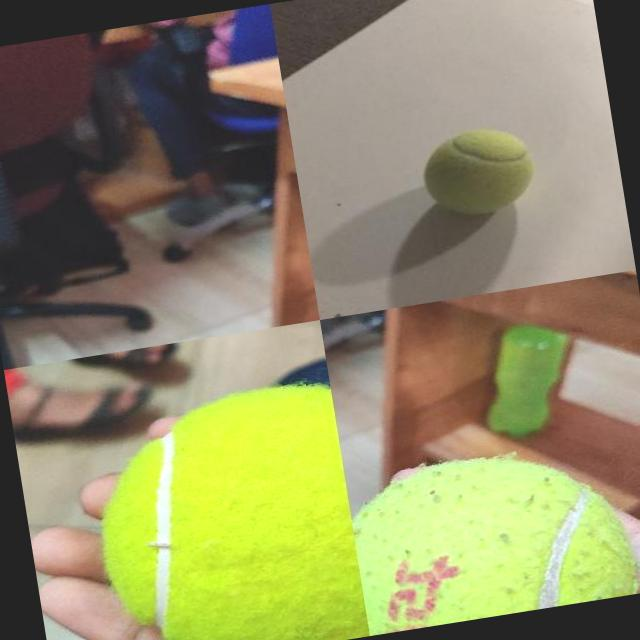Tennis Ball: (84, 380, 369, 640), (347, 436, 639, 634), (418, 120, 544, 224)
